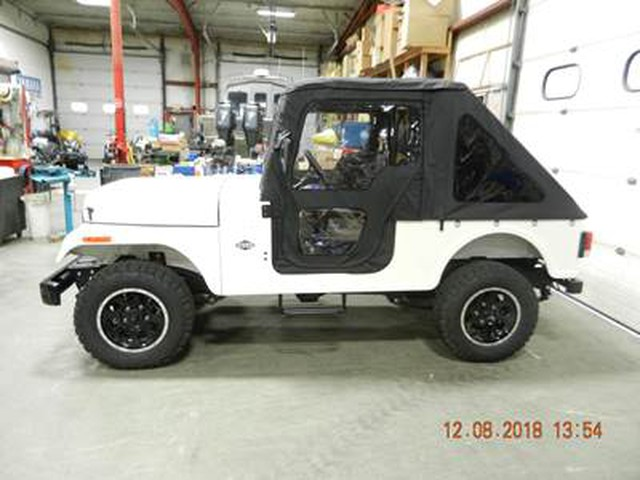Vehicle: (41, 72, 597, 369)
